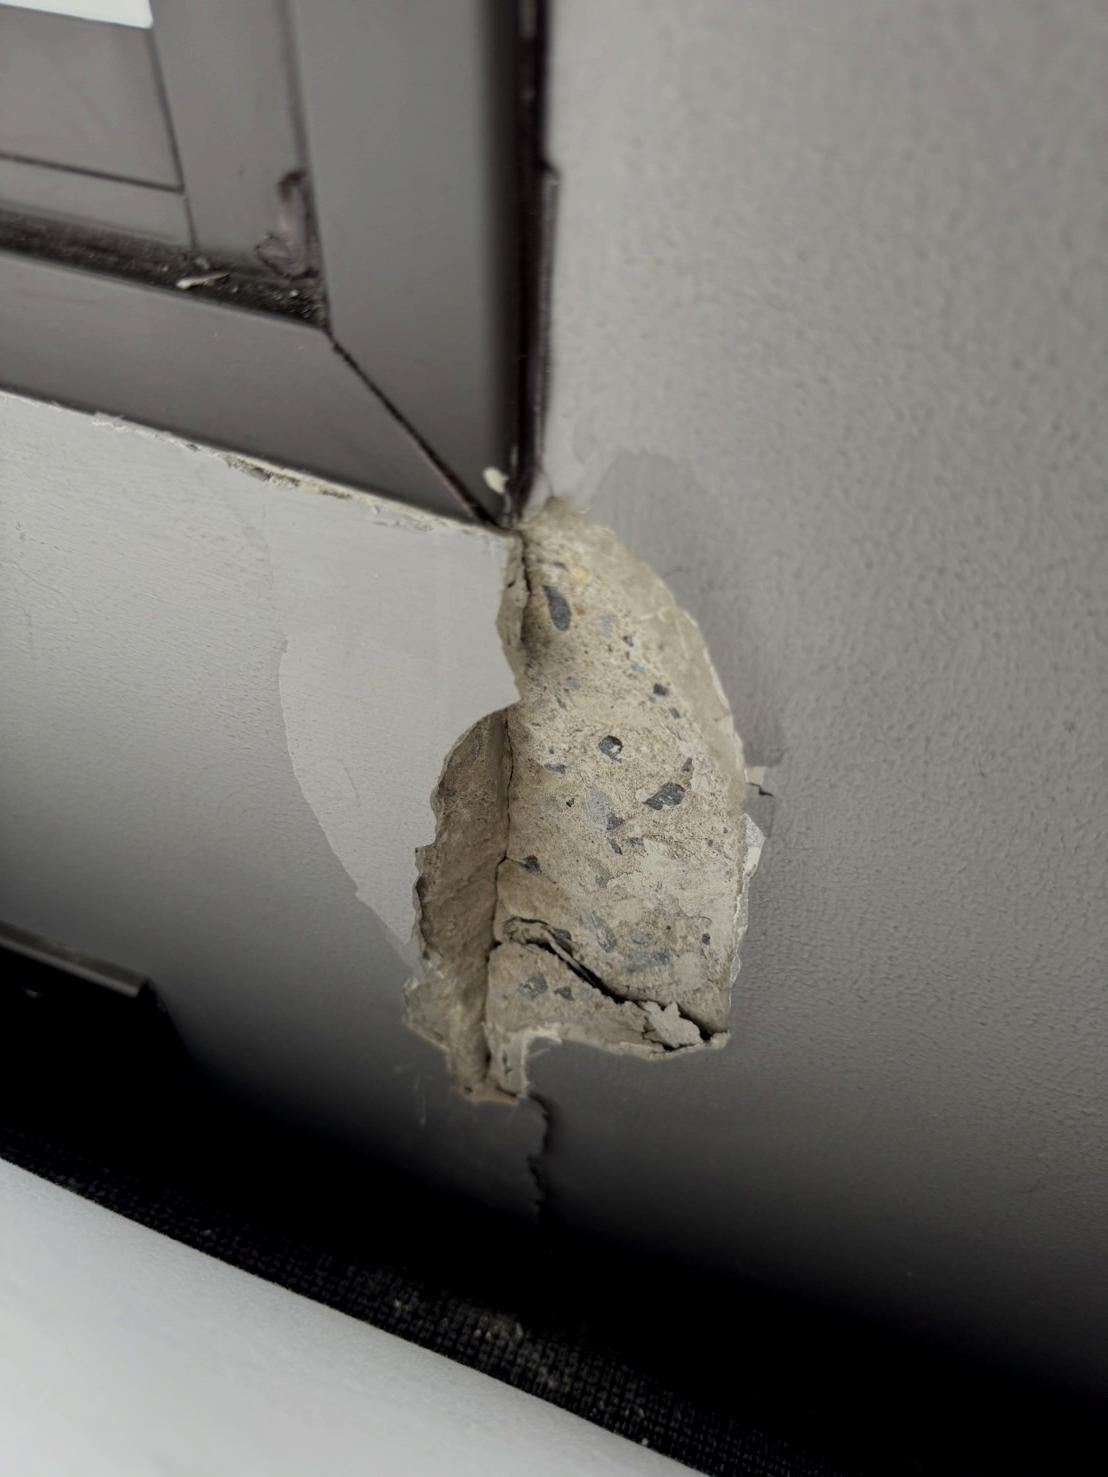High: (241, 436, 788, 1163)
